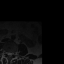CCS_normal: (8, 49, 10, 58)
LFS_normal: (12, 49, 14, 57)
LLS_normal: (10, 49, 12, 57)
RFS_normal: (5, 48, 7, 55)
RLS_normal: (7, 49, 8, 57)
